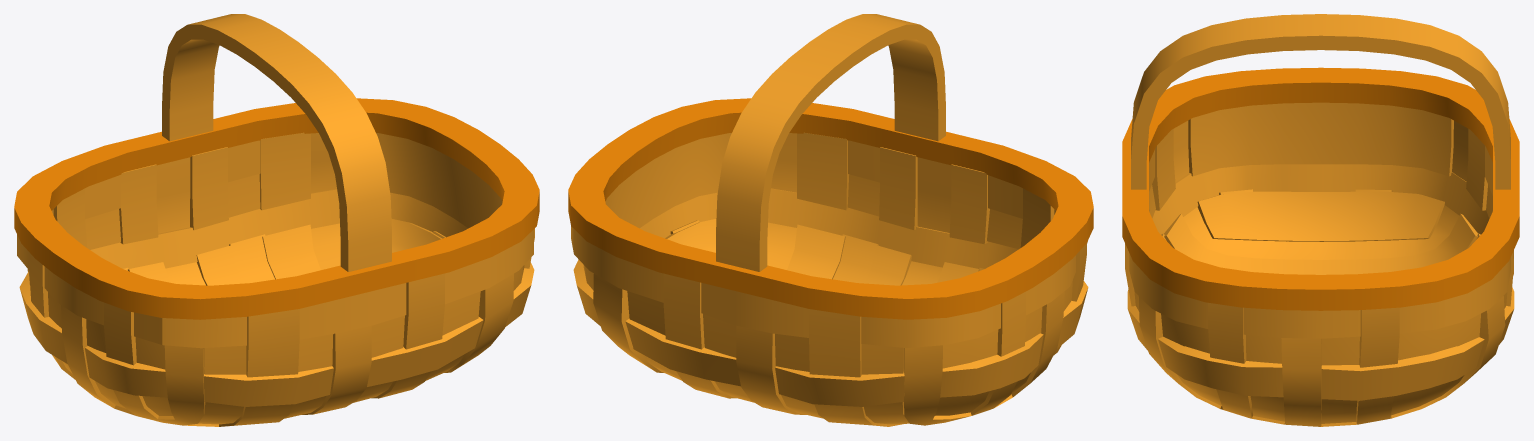
The model's file is basket.gltf.
The picture shows the model from 3 angles, left to right: view 1: azimuth 30°, elevation 25°; view 2: azimuth 150°, elevation 25°; view 3: azimuth 270°, elevation 25°; orthographic projection.
Parts seen in each view (by area): view 1: Cube.1014, Cube.1015; view 2: Cube.1014, Cube.1015; view 3: Cube.1014, Cube.1015.
Part boxes in pixels (x1=…): Cube.1014: x1=17, y1=14, x2=534, y2=426; Cube.1015: x1=14, y1=98, x2=539, y2=319; Cube.1014: x1=571, y1=14, x2=1088, y2=426; Cube.1015: x1=568, y1=98, x2=1093, y2=319; Cube.1014: x1=1125, y1=14, x2=1514, y2=426; Cube.1015: x1=1122, y1=67, x2=1519, y2=310.
Size of the model in its own units: 2.33 by 1.65 by 1.76.
Materials: 1 (1 with a texture image).
